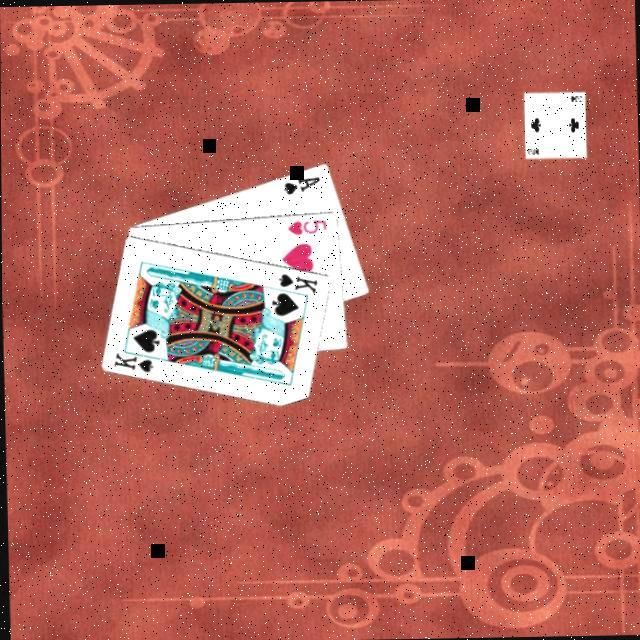5H: (285, 213, 331, 236)
AS: (281, 171, 323, 195)
KS: (111, 343, 162, 374), (276, 267, 322, 294)
